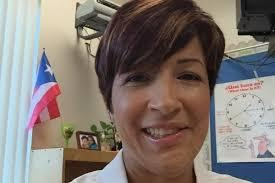strokeMouthMid: (134, 118, 202, 149)
